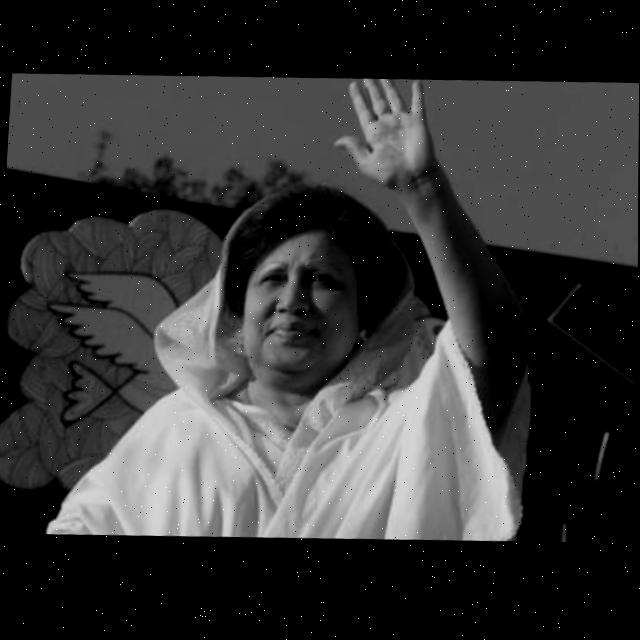face: (209, 180, 411, 395)
